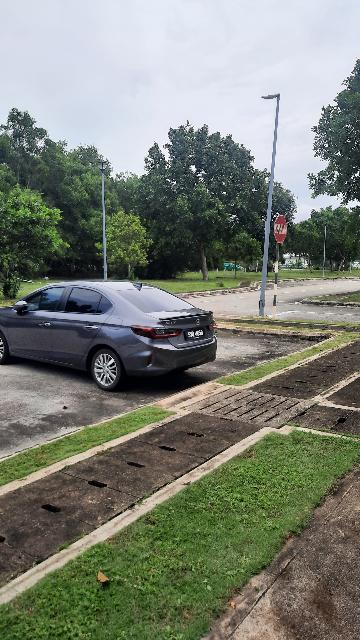License_Plate: (184, 329, 211, 342)
car: (2, 272, 223, 388)
